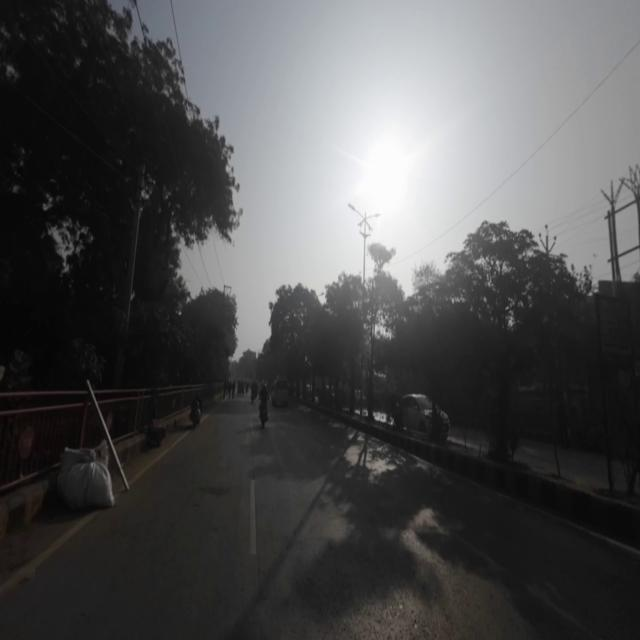Garbage: (51, 440, 112, 516)
